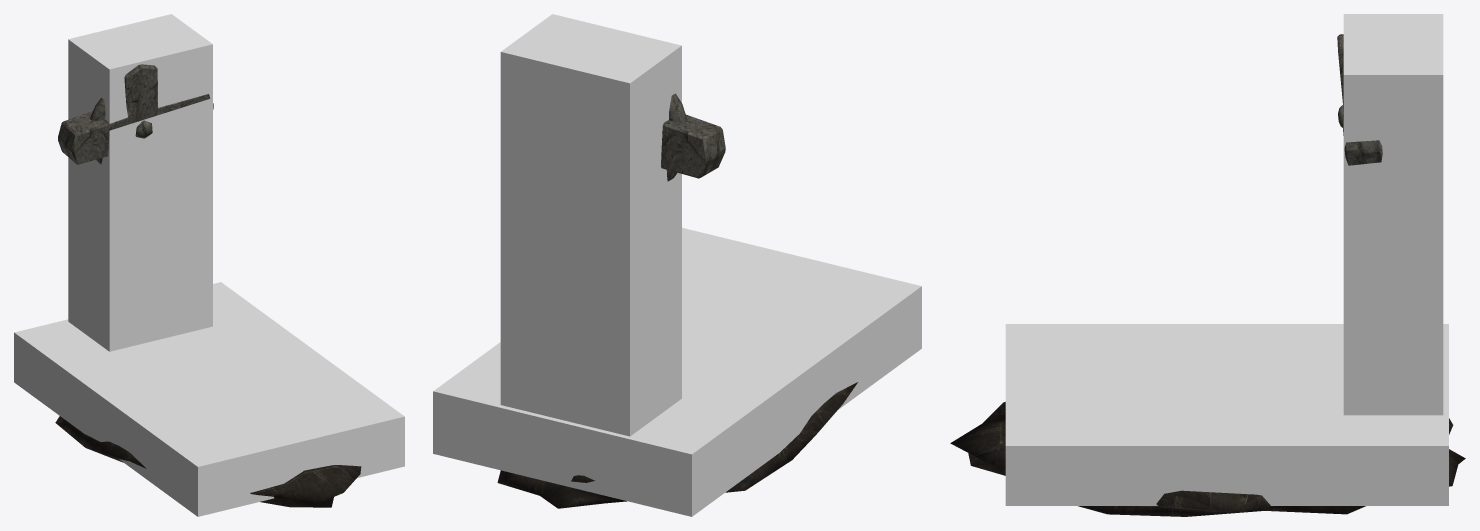
File: grave_celtic_cross_v1.glb
3 renders of one model, left to right at view 1: azimuth 30°, elevation 25°; view 2: azimuth 150°, elevation 25°; view 3: azimuth 270°, elevation 25°, orthographic. The views are drawn at different scales.
Parts seen in each view (by area): view 1: col_mound, col_cross, cross, mound; view 2: col_cross, col_mound, mound, cross; view 3: col_mound, col_cross, mound, cross.
Boxes of the visible parts, <box> form: col_mound: <box>14,282,404,516</box>; col_cross: <box>68,14,212,351</box>; cross: <box>58,64,213,164</box>; mound: <box>55,416,361,507</box>; col_cross: <box>500,14,681,436</box>; col_mound: <box>433,227,921,516</box>; mound: <box>497,382,857,508</box>; cross: <box>661,93,725,181</box>; col_mound: <box>1005,324,1448,505</box>; col_cross: <box>1343,14,1443,415</box>; mound: <box>950,402,1465,516</box>; cross: <box>1337,34,1382,165</box>.
Size of the model in its own units: 1.44 by 2.12 by 2.33.
Materials: 2 (2 with a texture image).
